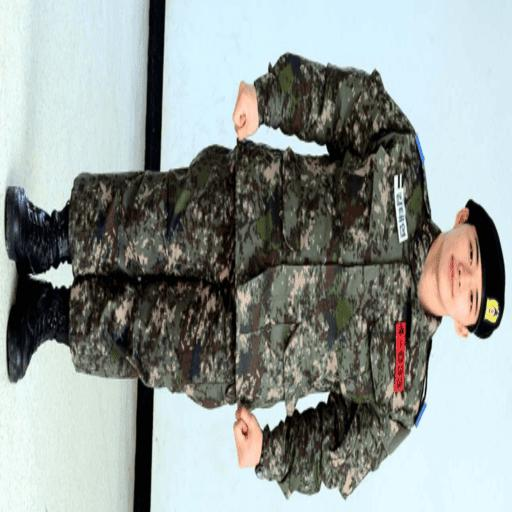korea army: (3, 50, 504, 499)
